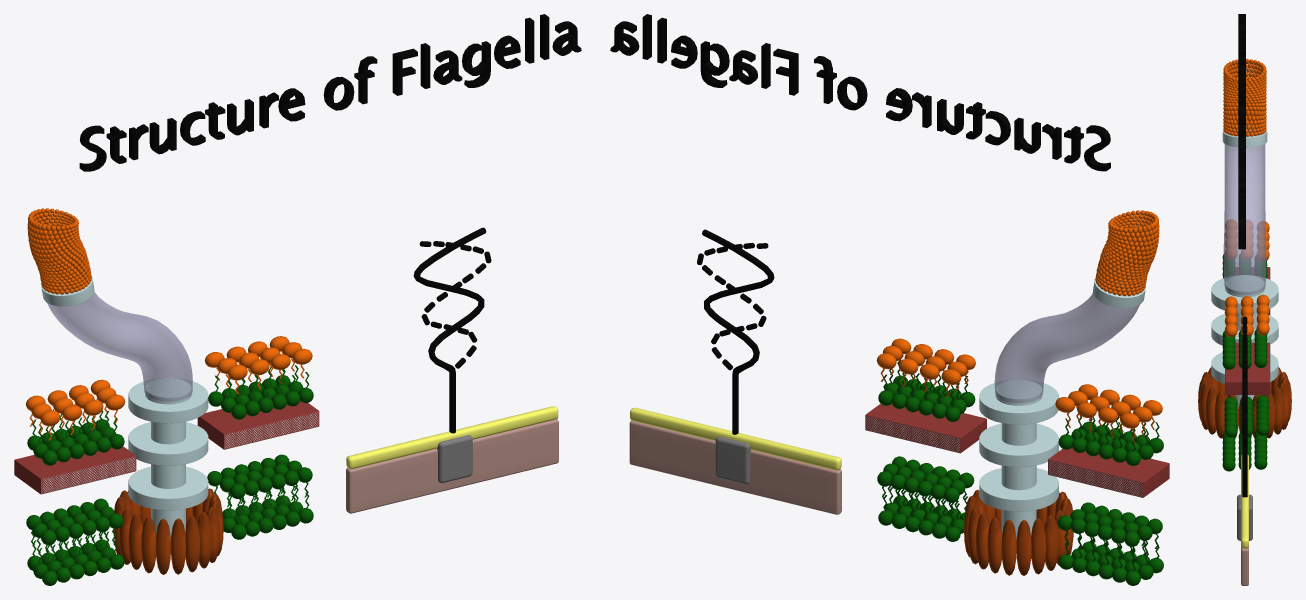
Rendered from Fiagena.glb.
The picture shows the model from 3 angles, left to right: view 1: azimuth 30°, elevation 25°; view 2: azimuth 150°, elevation 25°; view 3: azimuth 270°, elevation 25°; orthographic projection. The views are drawn at different scales.
Parts seen in each view (by area): view 1: polySurface129, polySurface90, pCylinder5, polySurface129_lambert1_0.001; view 2: polySurface129, polySurface90, pCylinder5, polySurface129_lambert1_0.001; view 3: polySurface129, pCylinder5, polySurface90, polySurface129_lambert1_0.001.
Boxes of the visible parts, box(x1,y1,x2,y2) form: polySurface129: box(14, 219, 558, 585); polySurface90: box(79, 14, 581, 171); pCylinder5: box(47, 291, 192, 401); polySurface129_lambert1_0.001: box(27, 208, 91, 290); polySurface129: box(629, 210, 1169, 585); polySurface90: box(610, 14, 1110, 171); pCylinder5: box(994, 293, 1139, 402); polySurface129_lambert1_0.001: box(1096, 210, 1159, 292); polySurface129: box(1198, 59, 1291, 585); pCylinder5: box(1223, 144, 1266, 294); polySurface90: box(1238, 14, 1245, 249); polySurface129_lambert1_0.001: box(1223, 58, 1266, 133).
Bounding box in the file's own units: 0.8302 × 0.6524 × 0.1455.
Materials: 3 (2 with a texture image).
